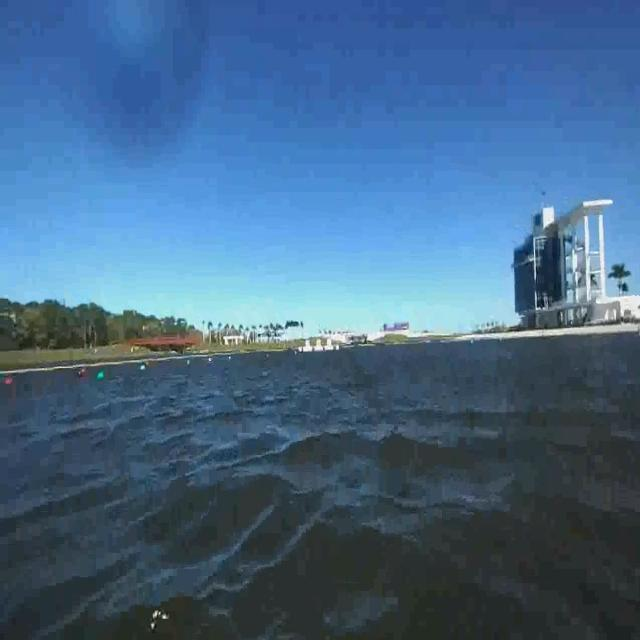green-buoy: (95, 370, 104, 380)
red-buoy: (4, 378, 13, 384)
